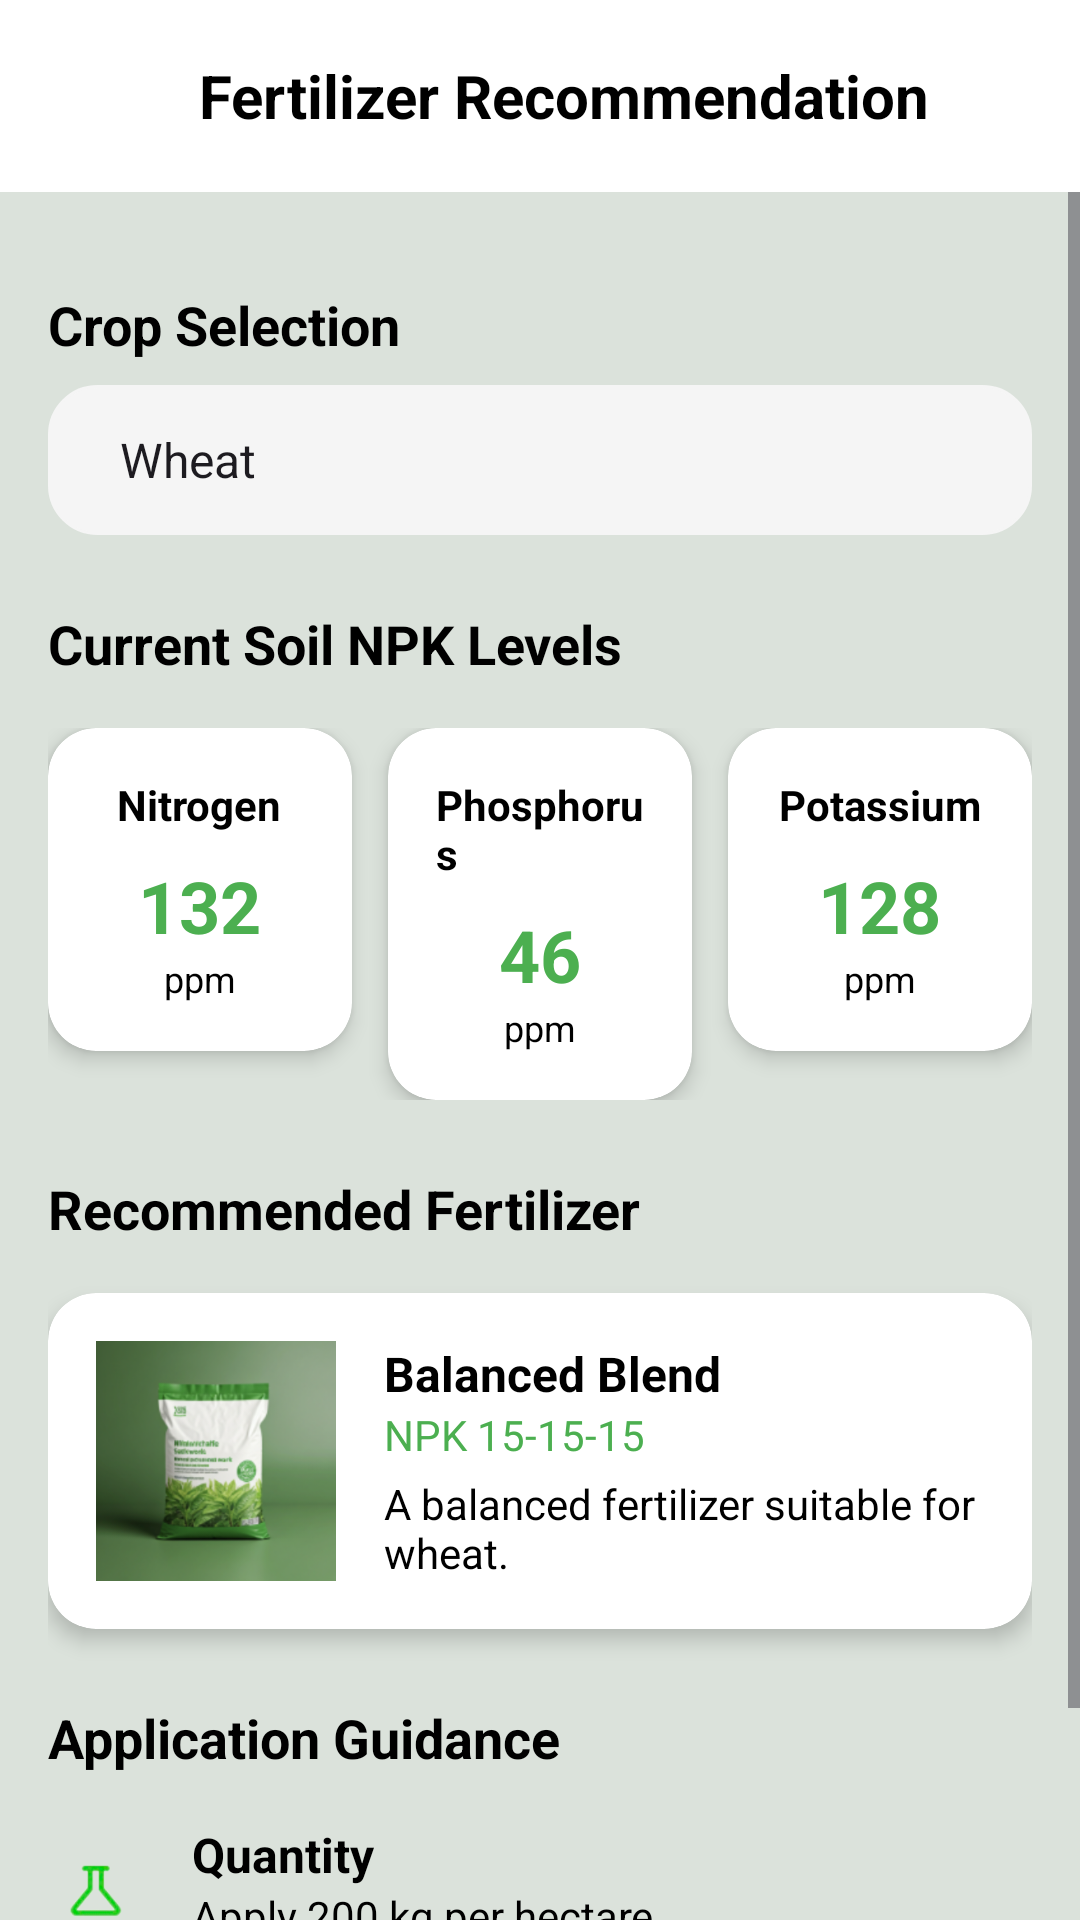

Screen size 1080 x 1920. Icon name, then its box in pixels as (x1, y1, x2, y2):
Fertilizer Bag: (96, 1341, 336, 1581)
